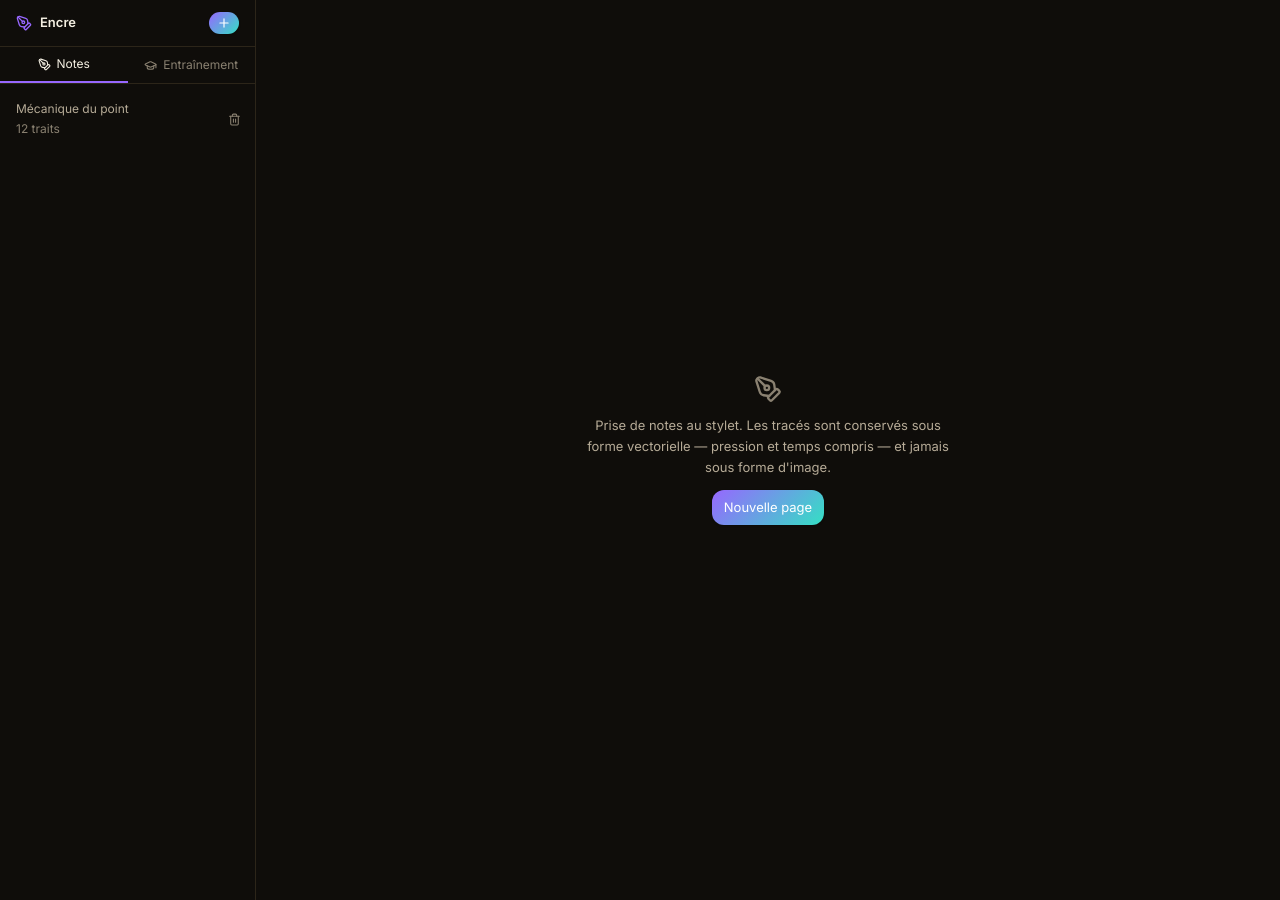
Test: module encre — transcription › affiche le texte transcrit, en lecture seule, avec modèle et version
Click the text "Mécanique du point".
click(72, 108)  # box [16,101,129,116]
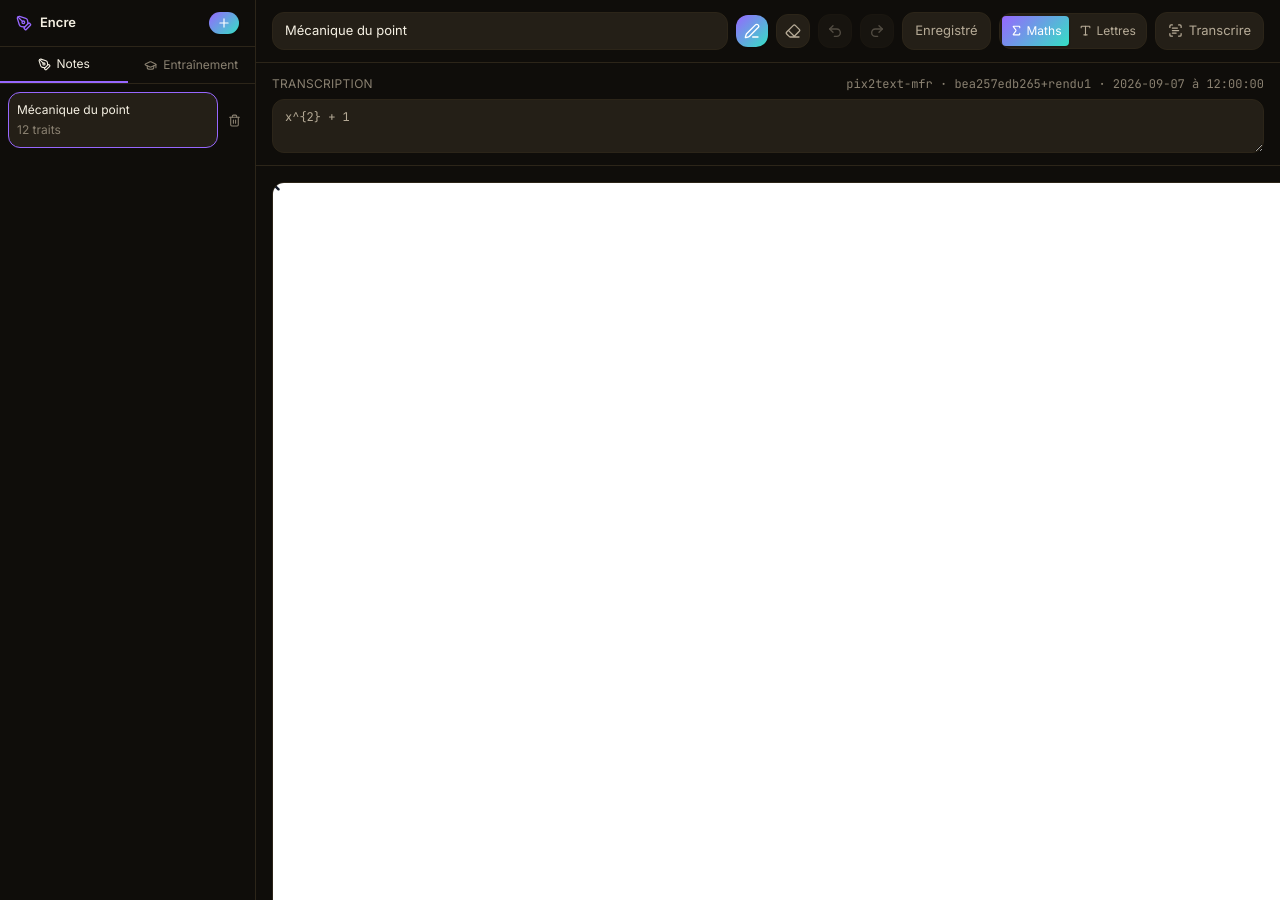
Expected: the text box named "Texte transcrit (lecture seule)" holds "x^{2} + 1", [272,98,1264,152]
Expected: the text "pix2text-mfr · bea257edb265+rendu1 · 2026-09-07 à 12:00:00" is shown, [846,74,1264,92]
